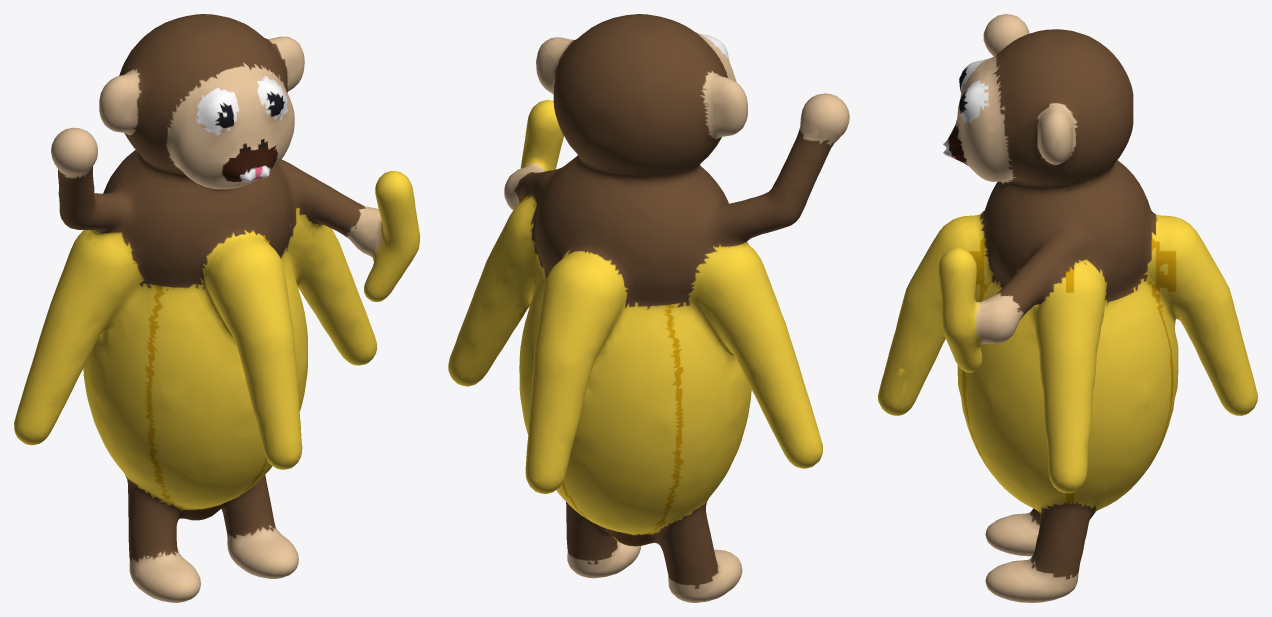
Rendered from SM_Chimpanzini_Bananini.fbx.
3 renders of one model, left to right at view 1: azimuth 30°, elevation 25°; view 2: azimuth 150°, elevation 25°; view 3: azimuth 270°, elevation 25°, orthographic. The views are drawn at different scales.
Parts seen in each view (by area): view 1: Chimpanzini_Bananini; view 2: Chimpanzini_Bananini; view 3: Chimpanzini_Bananini.
Boxes of the visible parts, <box> form: Chimpanzini_Bananini: <box>14,14,419,602</box>; Chimpanzini_Bananini: <box>448,14,849,602</box>; Chimpanzini_Bananini: <box>878,14,1257,602</box>.
Bounding box in the file's own units: 0.99 × 1.45 × 0.9304.
Materials: 1 (1 with a texture image).
